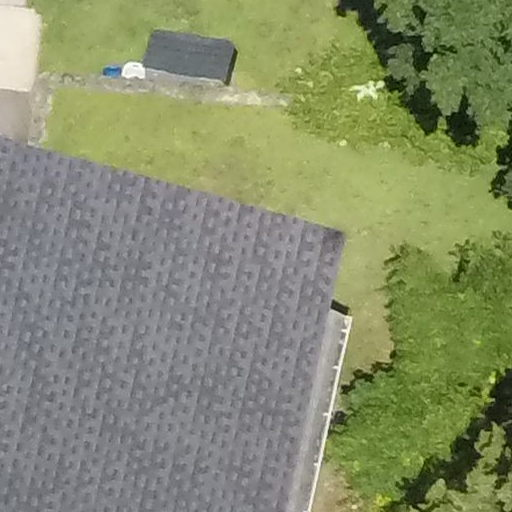container: (117, 57, 145, 84), (102, 63, 119, 79)
